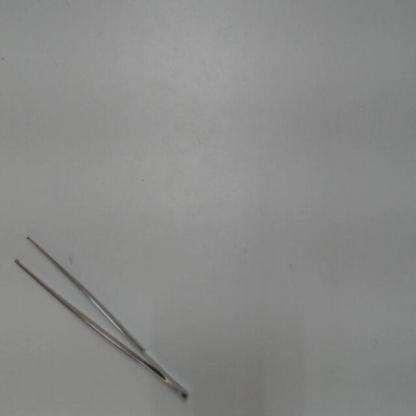Gillies Toothed Dissector: (6, 220, 192, 407)
